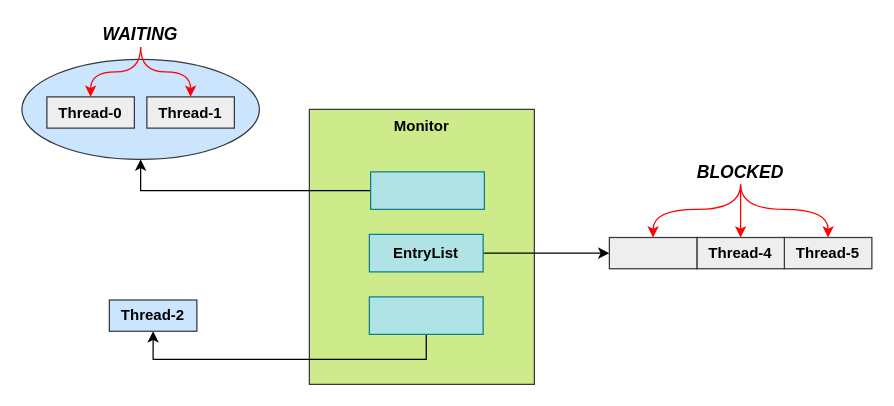
Image size: 894x406. Some labels were removed from this diagram. The centre of each missing label's shape, as x and y in pixels:
"Owner" belongs at (425,315).
"Thread-3" belongs at (652,252).
"WaitSet" belongs at (426,190).
